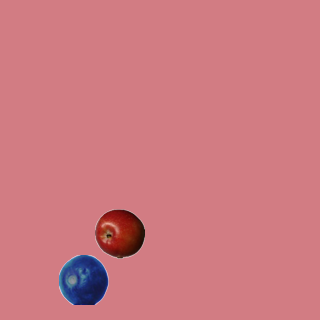Apple Braeburn: (94, 208, 144, 258)
Huckleberry: (58, 254, 108, 304)
